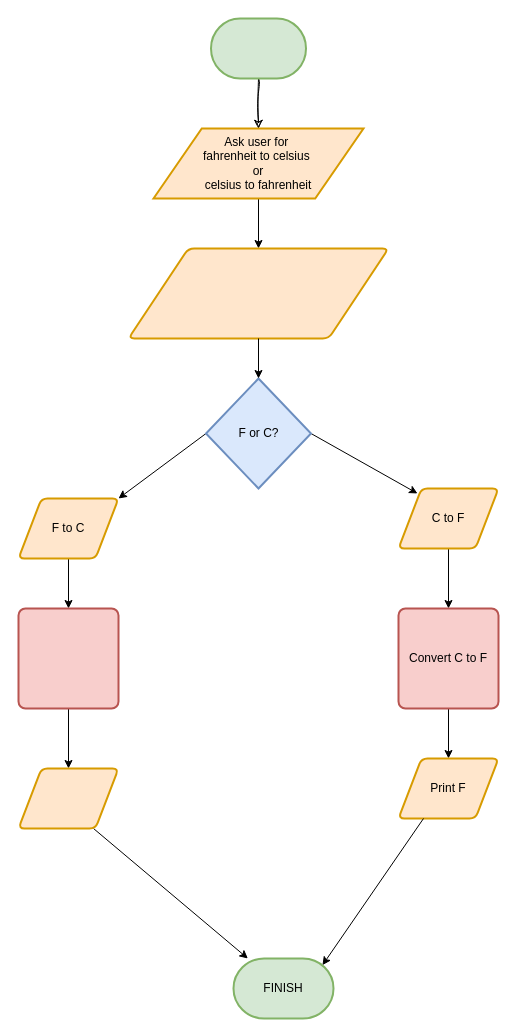
The diagram is 516 pixels wide and 1036 high, and some of its shapes have lost their labels. Each missing label, with the box of its shape:
Ask for the number/temp: (127, 247, 389, 339)
Convert F to C: (17, 607, 119, 709)
Print C: (17, 767, 119, 829)
START: (210, 17, 306, 79)
